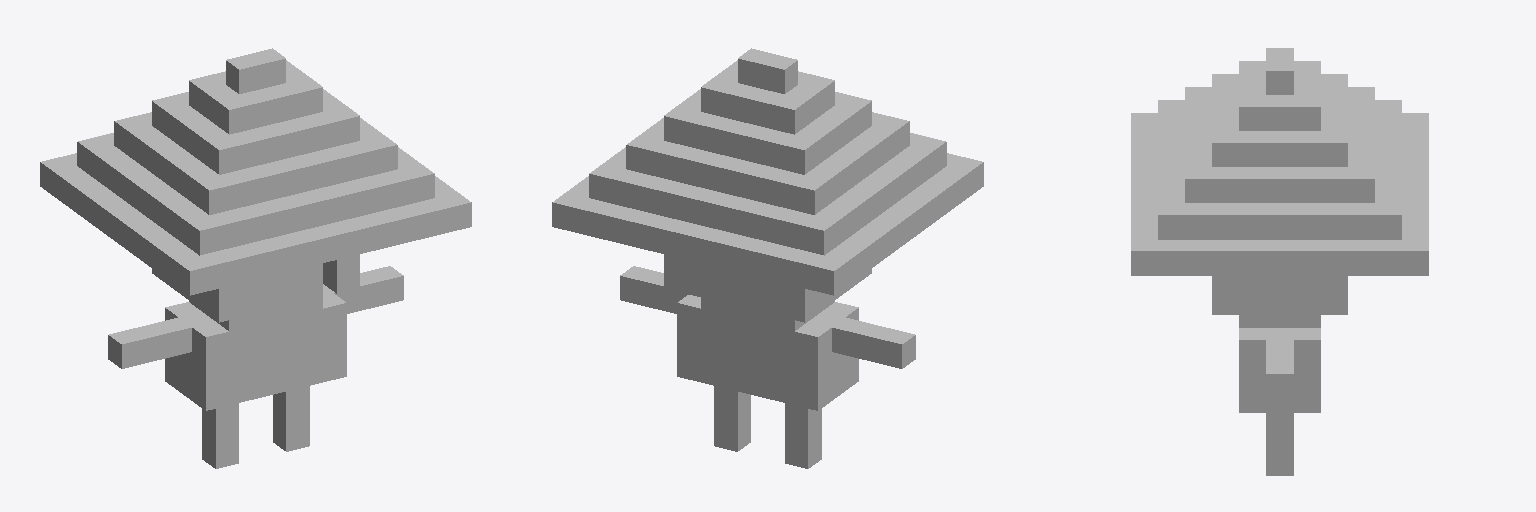
The model's file is chr_knight.obj.
The picture shows the model from 3 angles: view 1: azimuth 30°, elevation 25°; view 2: azimuth 150°, elevation 25°; view 3: azimuth 270°, elevation 25°; orthographic projection.
Visible parts, largest first — view 1: object 1; view 2: object 1; view 3: object 1.
Part boxes in pixels (left/top/right/bottom): object 1: left=40, top=48, right=471, bottom=468; object 1: left=552, top=48, right=983, bottom=468; object 1: left=1131, top=48, right=1428, bottom=475.
Size of the model in its own units: 1.2 by 1.6 by 1.1.